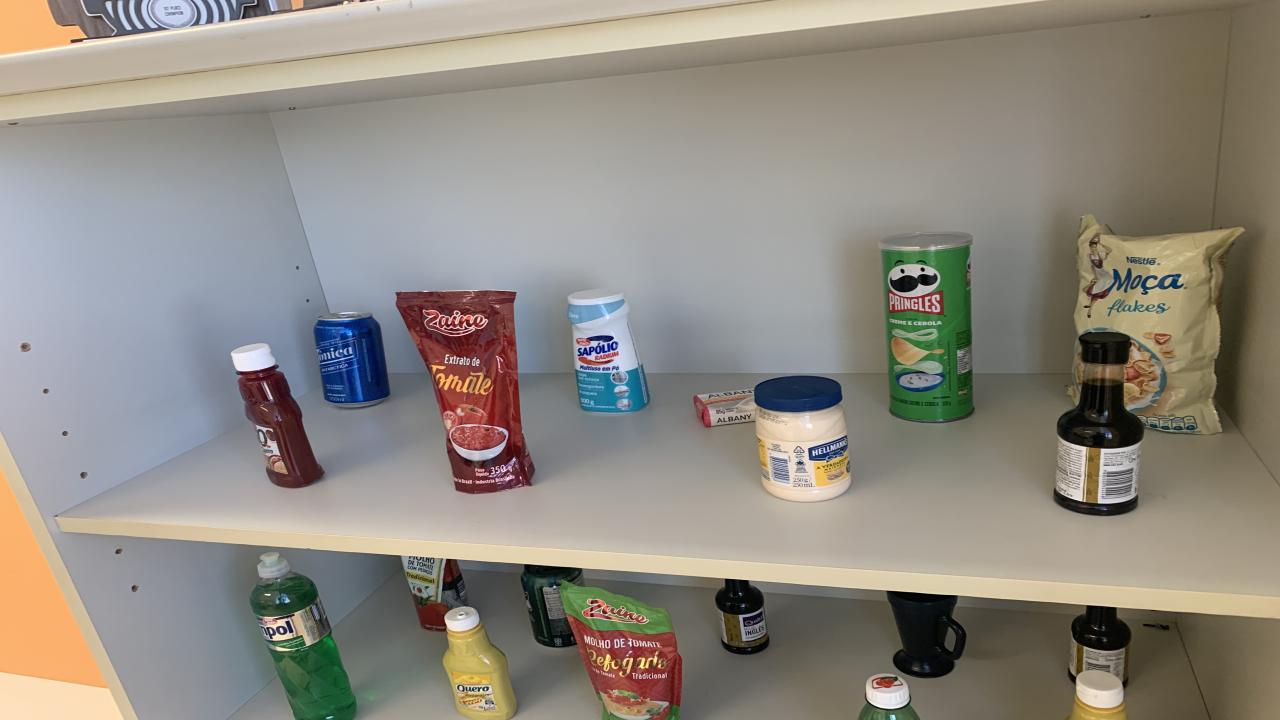Cleaner-Cleanup_Items: (568, 289, 650, 412)
Detergent-Cleanup_Items: (250, 553, 355, 718)
English_Sauce-Pantry_Items: (1055, 332, 1145, 516), (1070, 606, 1132, 684), (715, 579, 768, 652)
Flakes-Snacks: (1075, 216, 1245, 435)
Guarana-Drinks: (858, 673, 920, 720)
Guarana_Can-Drinks: (522, 566, 582, 647)
Ketchup-Pantry_Items: (232, 343, 325, 488)
Mayonnaise-Pantry_Items: (755, 375, 850, 502)
Mustard-Pantry_Items: (442, 608, 518, 720), (1068, 669, 1128, 720)
Pringles-Snacks: (880, 232, 972, 422)
Soap-Cleanup_Items: (692, 388, 755, 428)
Tomato_Sauce-Pantry_Items: (395, 291, 535, 493), (560, 583, 682, 720), (402, 557, 468, 632)
Tonic-Drinks: (315, 311, 390, 407)
